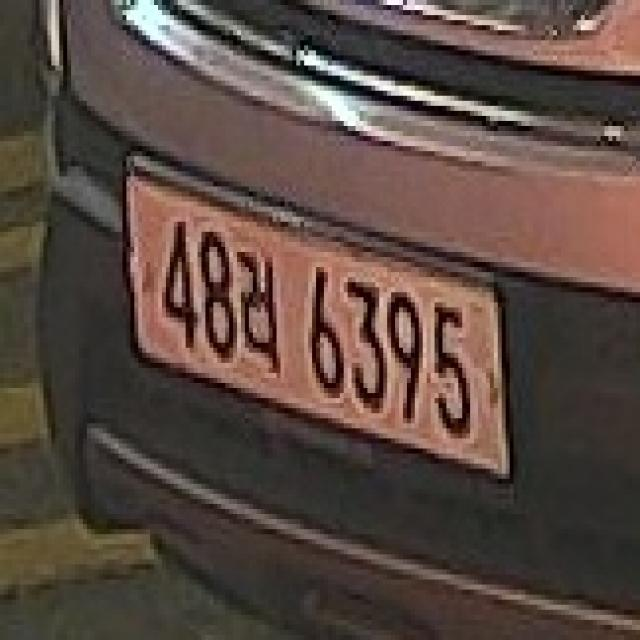3: (336, 272, 389, 419)
4: (154, 212, 198, 364)
5: (424, 298, 476, 452)
6: (302, 255, 346, 416)
8: (196, 224, 238, 376)
9: (384, 284, 428, 440)
leo: (236, 244, 287, 379)
license_plate: (111, 139, 527, 512)
